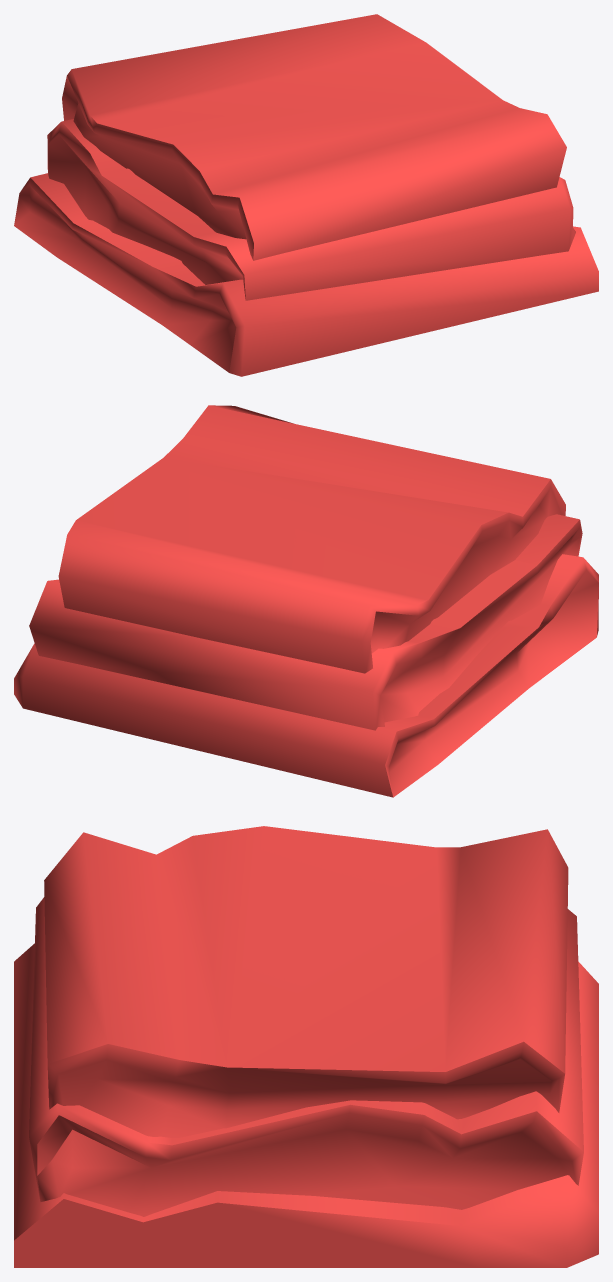
The model's file is clothes_023.glb.
The picture shows the model from 3 angles, top to bottom: view 1: azimuth 30°, elevation 25°; view 2: azimuth 150°, elevation 25°; view 3: azimuth 270°, elevation 25°; orthographic projection. The views are drawn at different scales.
Parts seen in each view (by area): view 1: clothes_023; view 2: clothes_023; view 3: clothes_023.
Boxes of the visible parts, left/top/right/bottom form: clothes_023: left=14, top=14, right=598, bottom=376; clothes_023: left=14, top=405, right=598, bottom=797; clothes_023: left=14, top=826, right=598, bottom=1267.
Bounding box in the file's own units: 0.383 × 0.1588 × 0.383.
Materials: 1 (1 with a texture image).
